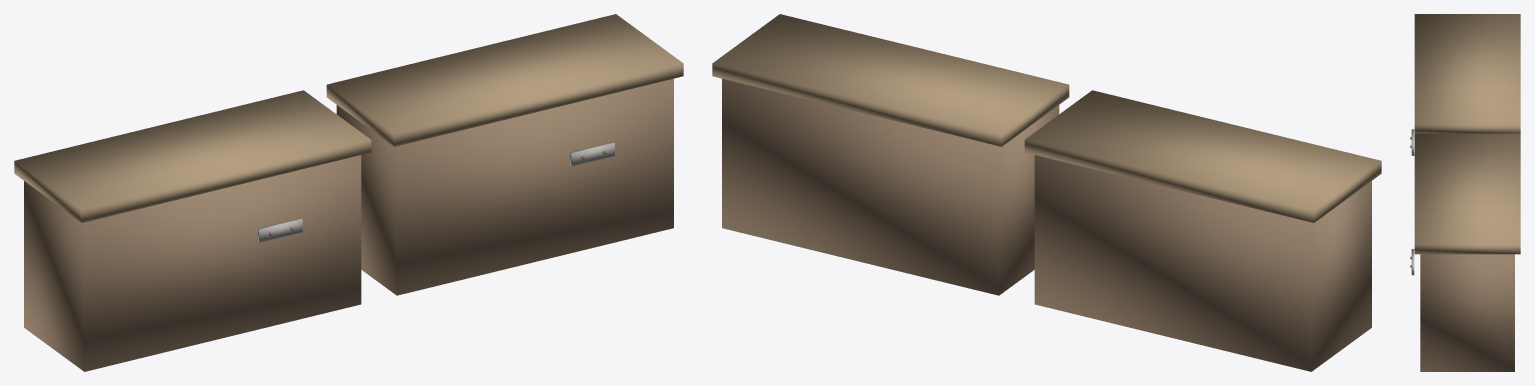
File: florist_wrapping_counter__cluster.glb
3 renders of one model, left to right at view 1: azimuth 30°, elevation 25°; view 2: azimuth 150°, elevation 25°; view 3: azimuth 270°, elevation 25°, orthographic. The views are drawn at different scales.
Visible parts, largest first — view 1: world; view 2: world; view 3: world.
Boxes of the visible parts, box(x1,y1,x2,y2) form: world: box(14, 14, 683, 371); world: box(712, 14, 1381, 371); world: box(1410, 14, 1520, 371).
Bounding box in the file's own units: 3.91 × 1.03 × 0.791.
